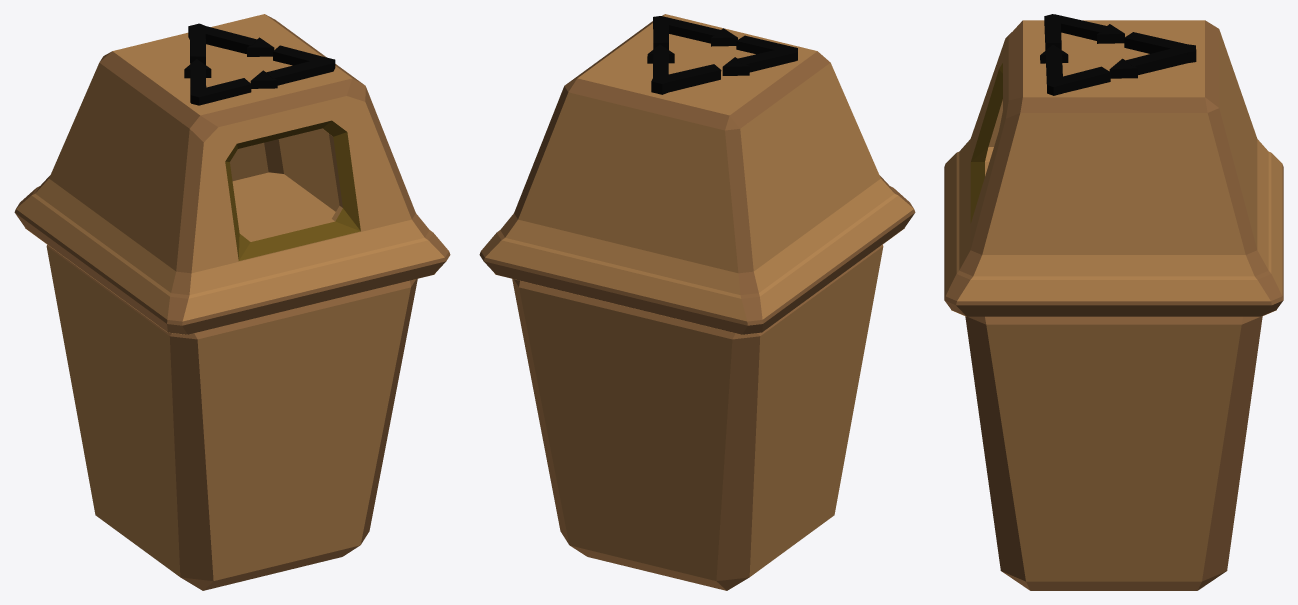
File: garbage bin.fbx
3 renders of one model, left to right at view 1: azimuth 30°, elevation 25°; view 2: azimuth 150°, elevation 25°; view 3: azimuth 270°, elevation 25°, orthographic. The views are drawn at different scales.
Parts seen in each view (by area): view 1: 立方体.003; view 2: 立方体.003; view 3: 立方体.003.
Part boxes in pixels (left/top/right/bottom): 立方体.003: left=14, top=14, right=450, bottom=590; 立方体.003: left=479, top=14, right=915, bottom=590; 立方体.003: left=944, top=14, right=1283, bottom=590.
Size of the model in its own units: 40.9 by 67.61 by 40.9.
